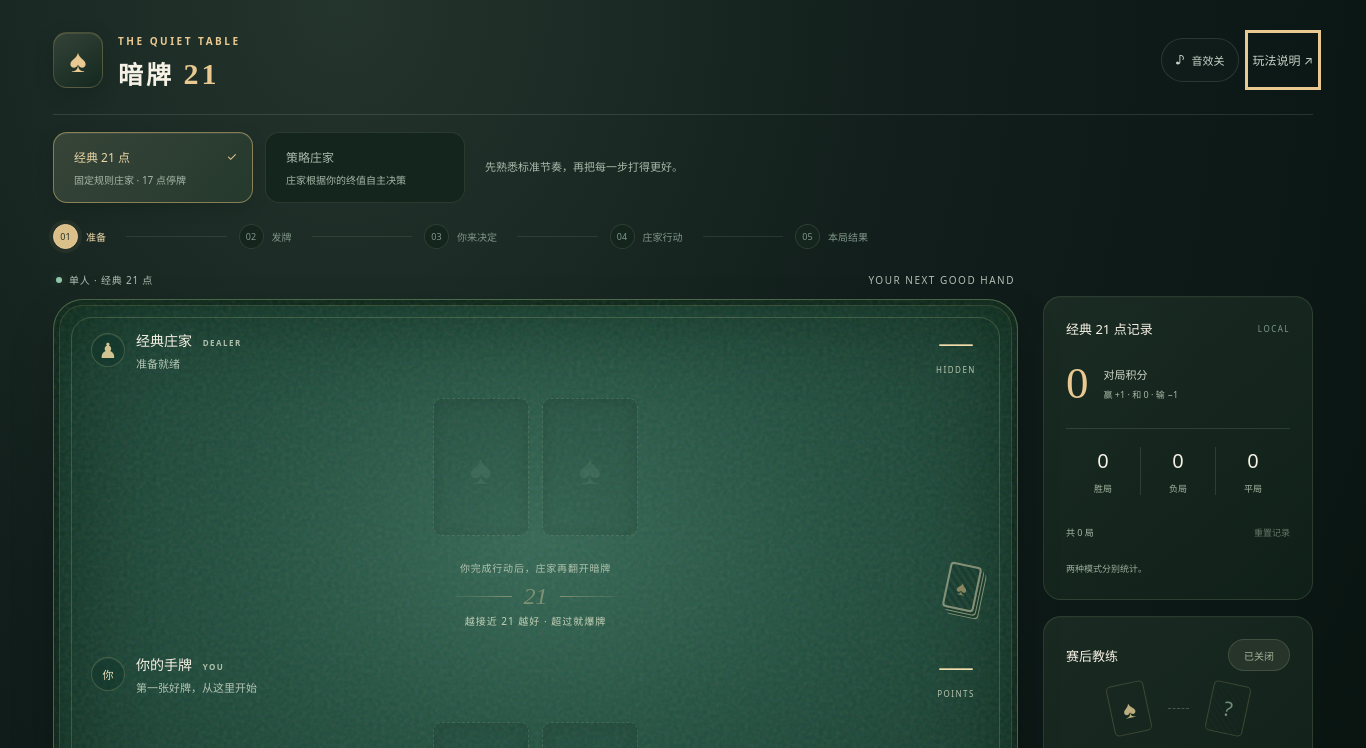
Test case: independent interaction quality › rules dialog blocks game shortcuts and restores focus after Escape
Click the button "玩法说明 ↗": (1283, 60) x1=1253 y1=38 x2=1313 y2=82
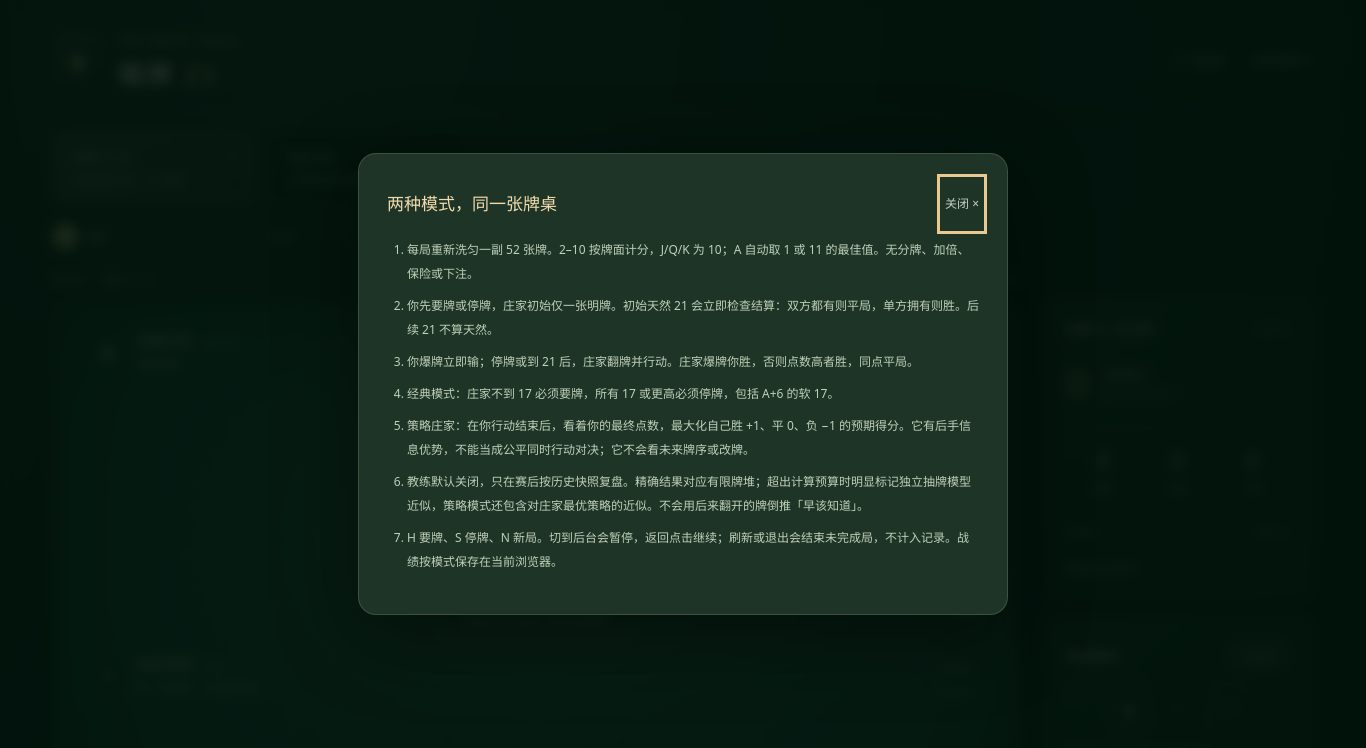
Press Tab in the button "关闭 ×", box x1=945 y1=182 x2=979 y2=226
Press n in the button "关闭 ×", box x1=945 y1=182 x2=979 y2=226
Press Escape in the button "关闭 ×", box x1=945 y1=182 x2=979 y2=226
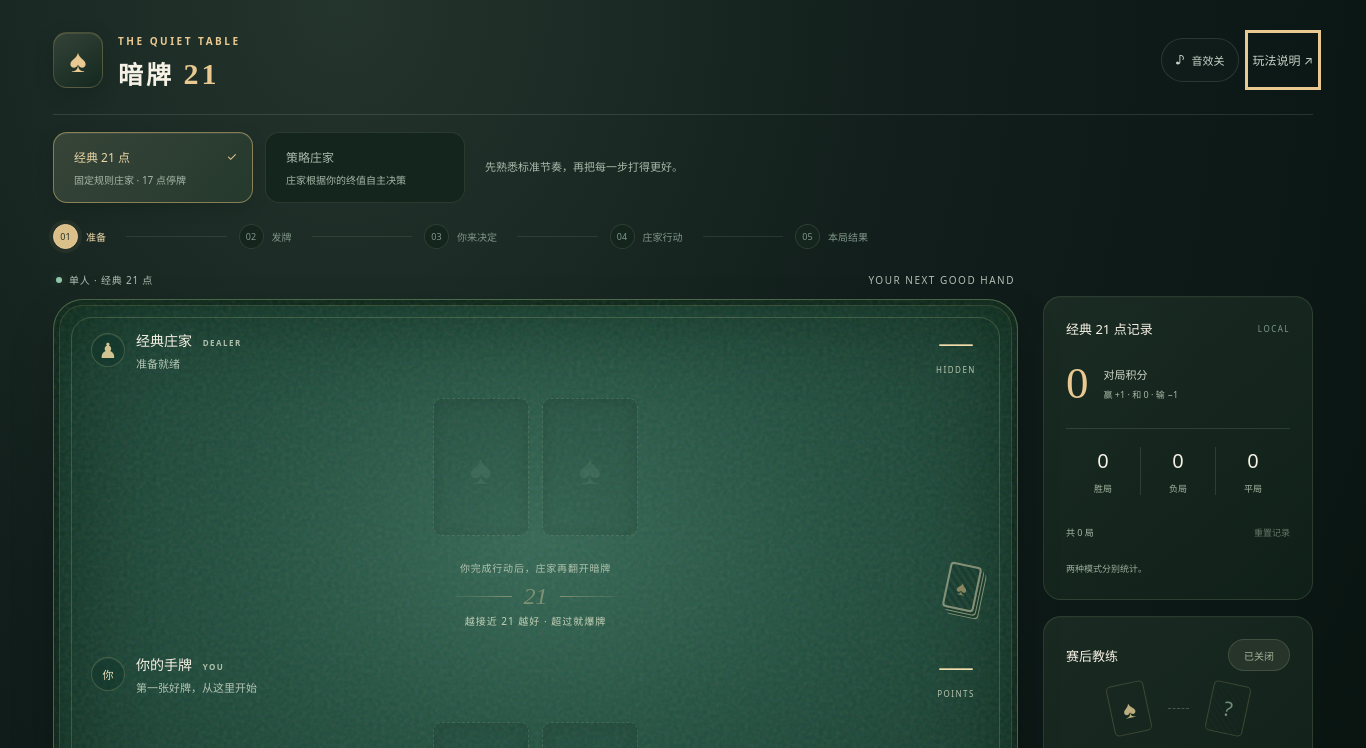
Check: the dialog is gone
